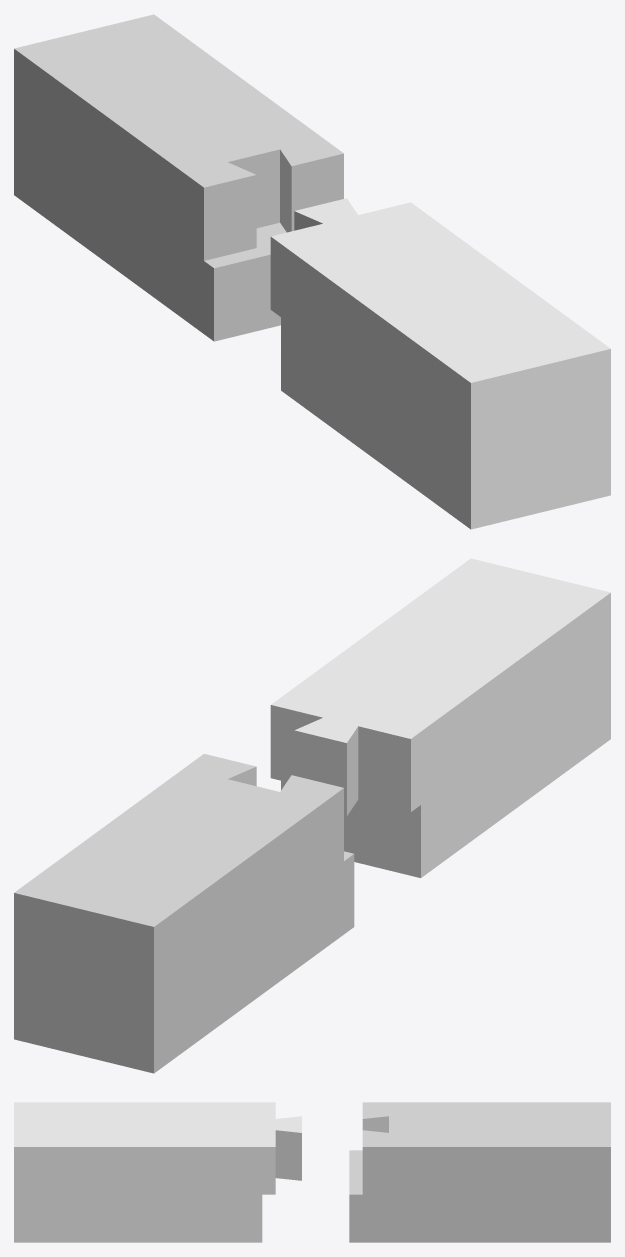
File: KoshikakeAritugi.fbx
The picture shows the model from 3 angles, top to bottom: view 1: azimuth 30°, elevation 25°; view 2: azimuth 150°, elevation 25°; view 3: azimuth 270°, elevation 25°; orthographic projection. The views are drawn at different scales.
Visible parts, largest first — view 1: Onta, Menta; view 2: Menta, Onta; view 3: Onta, Menta.
Boxes of the visible parts, <box> form: Onta: <box>270,198,610,529</box>; Menta: <box>14,14,343,341</box>; Menta: <box>14,754,354,1073</box>; Onta: <box>270,558,610,877</box>; Onta: <box>14,1102,301,1242</box>; Menta: <box>349,1102,610,1242</box>.
Bounding box in the file's own units: 0.1212 × 0.1212 × 0.6848.
Materials: 1 (1 with a texture image).
